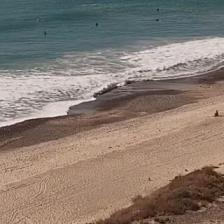surfer: (44, 31, 47, 34), (96, 22, 98, 26), (156, 19, 160, 21), (157, 8, 159, 10)
